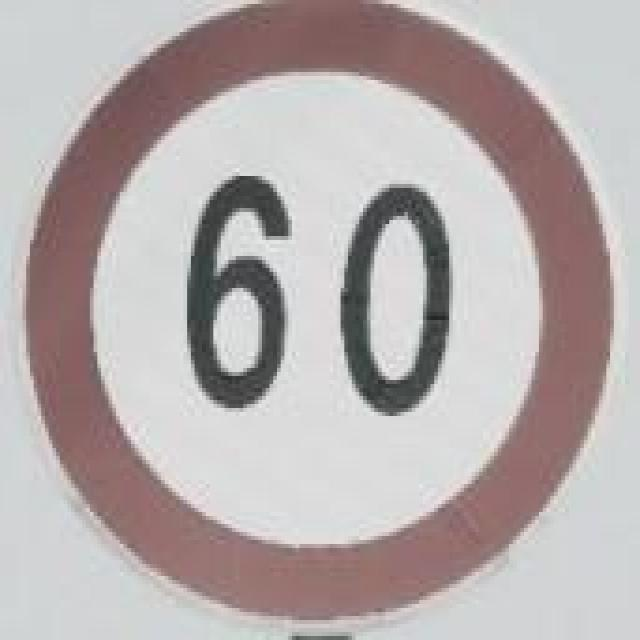traffic_sign: (22, 0, 602, 612)
